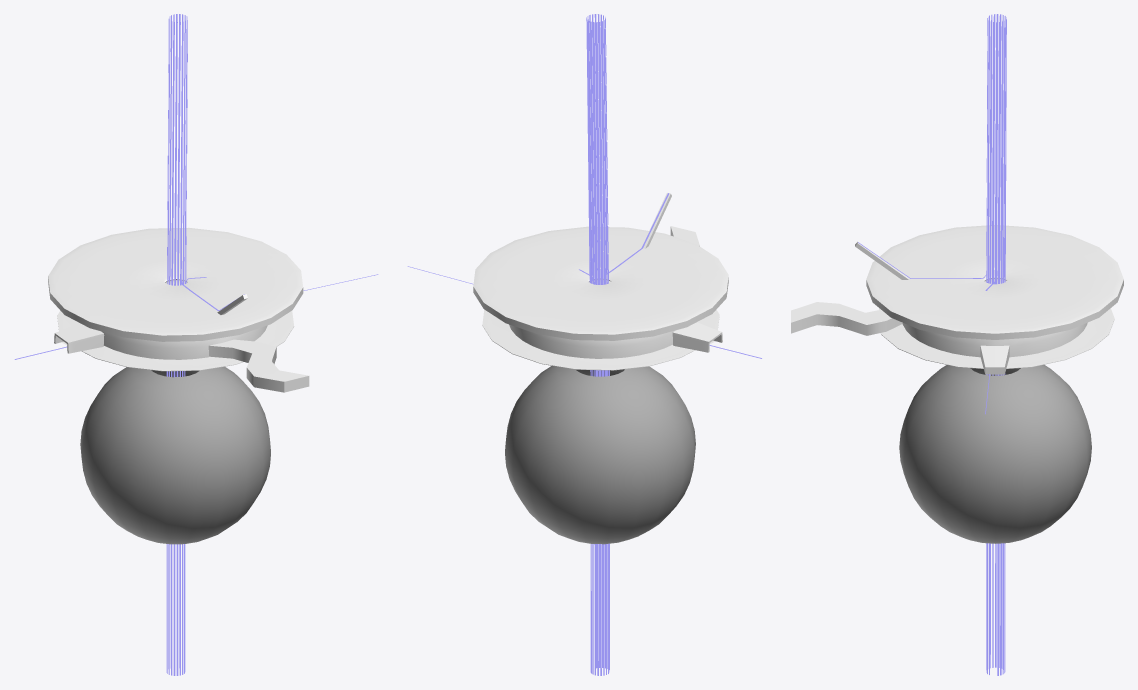
File: lobby_seperate2 (1).fbx
The picture shows the model from 3 angles, left to right: view 1: azimuth 30°, elevation 25°; view 2: azimuth 150°, elevation 25°; view 3: azimuth 270°, elevation 25°; orthographic projection.
Visible parts, largest first — view 1: Bworld_sphere, lobby_ceiling, line, lobby_floor, lobby_entry, lobby_wall, sketchroom_entry; view 2: Bworld_sphere, lobby_ceiling, line, lobby_floor, lobby_wall, sketchroom_entry; view 3: Bworld_sphere, lobby_ceiling, line, lobby_floor, lobby_wall, lobby_entry, right_entry.
Part boxes in pixels (x1=…): Bworld_sphere: x1=80, y1=366, x2=270, y2=544; lobby_ceiling: x1=48, y1=227, x2=303, y2=341; line: x1=14, y1=14, x2=378, y2=675; lobby_floor: x1=57, y1=283, x2=294, y2=371; lobby_entry: x1=208, y1=339, x2=309, y2=392; lobby_wall: x1=101, y1=325, x2=267, y2=359; sketchroom_entry: x1=54, y1=323, x2=104, y2=353; Bworld_sphere: x1=505, y1=366, x2=695, y2=544; lobby_ceiling: x1=473, y1=226, x2=728, y2=340; line: x1=407, y1=14, x2=761, y2=675; lobby_floor: x1=482, y1=283, x2=719, y2=370; lobby_wall: x1=509, y1=324, x2=675, y2=358; sketchroom_entry: x1=672, y1=322, x2=722, y2=352; Bworld_sphere: x1=899, y1=364, x2=1091, y2=543; lobby_ceiling: x1=866, y1=225, x2=1123, y2=339; line: x1=858, y1=14, x2=1006, y2=675; lobby_floor: x1=879, y1=282, x2=1114, y2=368; lobby_wall: x1=902, y1=322, x2=1087, y2=357; lobby_entry: x1=791, y1=302, x2=902, y2=335; right_entry: x1=980, y1=345, x2=1009, y2=374.
Size of the model in its own units: 20674 by 35924 by 16532.
